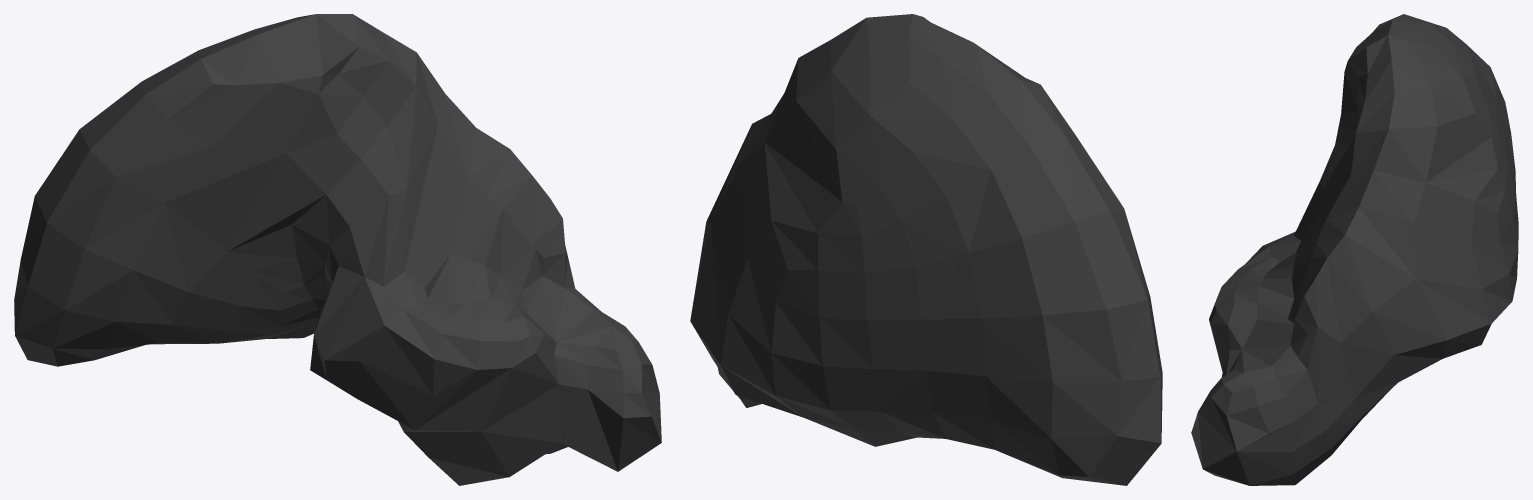
The model's file is 1st_tarsal_R.glb.
The picture shows the model from 3 angles, left to right: view 1: azimuth 30°, elevation 25°; view 2: azimuth 150°, elevation 25°; view 3: azimuth 270°, elevation 25°; orthographic projection. The views are drawn at different scales.
Visible parts, largest first — view 1: 1st_tarsal_R; view 2: 1st_tarsal_R; view 3: 1st_tarsal_R.
Part boxes in pixels (left/top/right/bottom): 1st_tarsal_R: left=14, top=14, right=661, bottom=485; 1st_tarsal_R: left=690, top=14, right=1162, bottom=485; 1st_tarsal_R: left=1191, top=14, right=1518, bottom=485.
Size of the model in its own units: 0.0567 by 0.0463 by 0.0375.
Materials: 1 (1 with a texture image).
